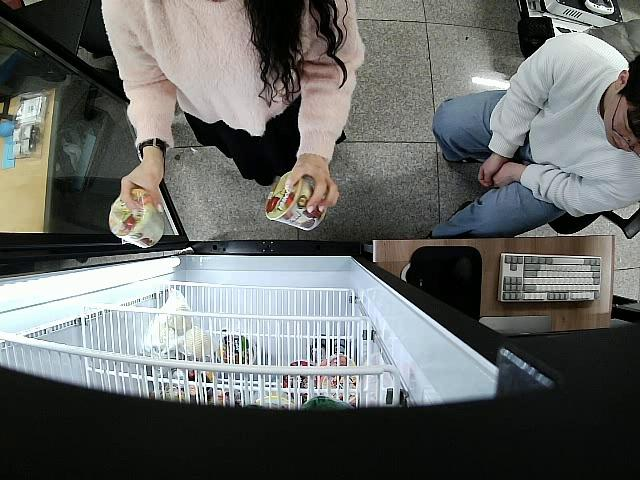00_hand: (284, 158, 341, 216), (119, 160, 169, 217)
04_chapagetti_S: (267, 171, 327, 230), (109, 190, 166, 248)
